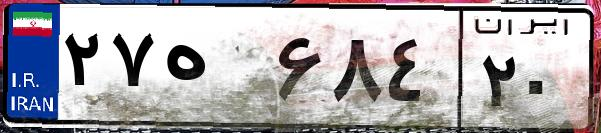0: (525, 38, 570, 115)
2: (57, 26, 110, 100), (475, 38, 525, 113)
4: (385, 28, 445, 110)
6: (270, 28, 330, 110)
7: (110, 28, 158, 98)
8: (330, 28, 385, 110)
ه: (158, 20, 270, 120)
